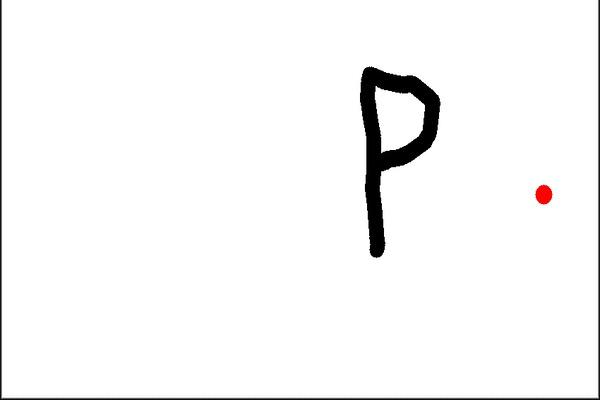P: (337, 54, 452, 264)
